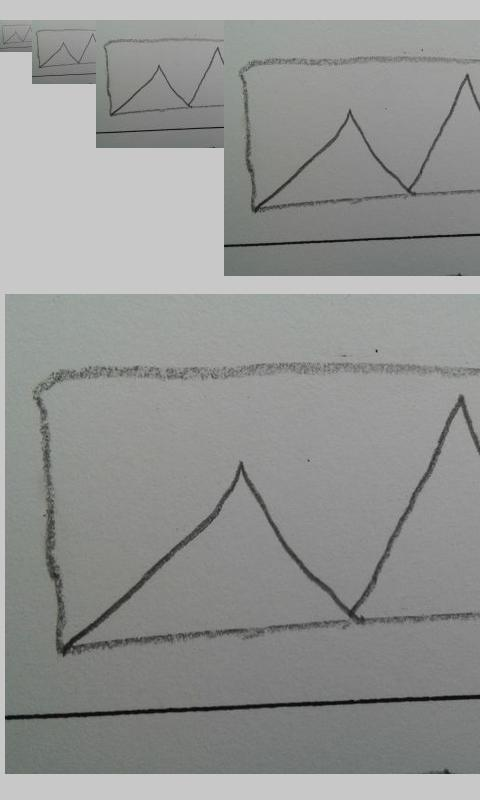image_view: (37, 363, 478, 657), (239, 55, 479, 217), (104, 36, 225, 116), (35, 28, 96, 68), (1, 24, 32, 45)
